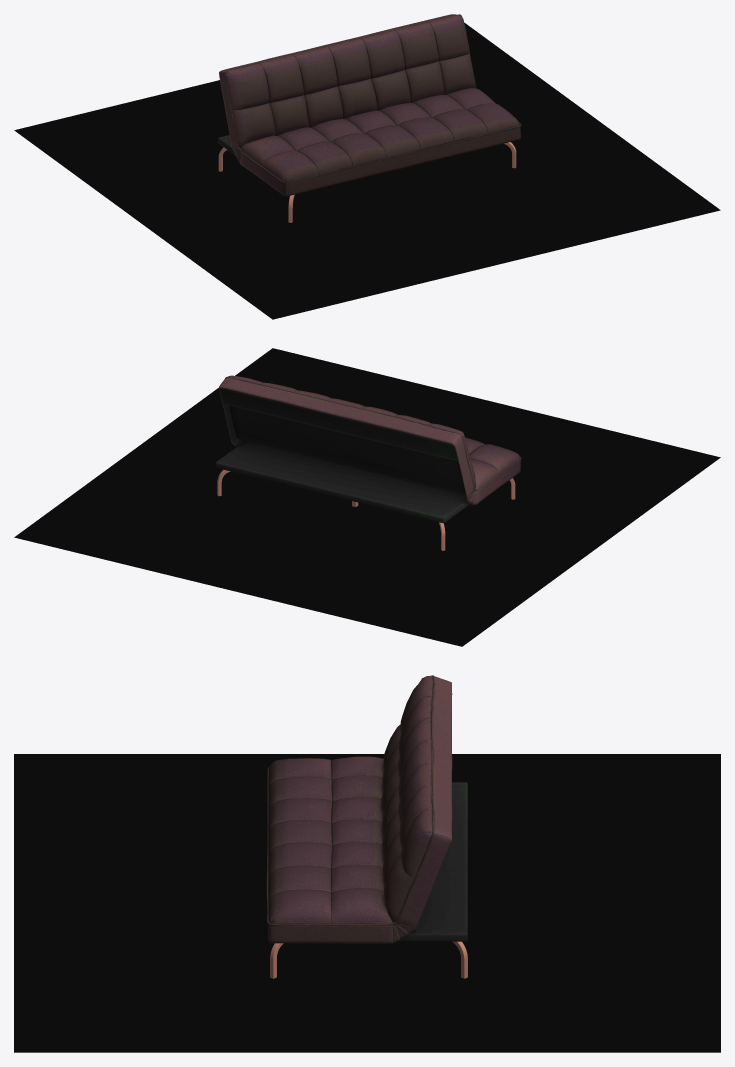
3 renders of one model, top to bottom at view 1: azimuth 30°, elevation 25°; view 2: azimuth 150°, elevation 25°; view 3: azimuth 270°, elevation 25°, orthographic. The views are drawn at different scales.
Visible parts, largest first — view 1: Plane001, FABRIC001; view 2: Plane001, FABRIC_BLACK001, FABRIC001; view 3: Plane001, FABRIC001, FABRIC_BLACK001.
Boxes of the visible parts, x1=… form: Plane001: x1=14, y1=23, x2=720, y2=319; FABRIC001: x1=219, y1=14, x2=521, y2=196; Plane001: x1=14, y1=348, x2=720, y2=646; FABRIC_BLACK001: x1=215, y1=388, x2=474, y2=523; FABRIC001: x1=219, y1=375, x2=521, y2=504; Plane001: x1=14, y1=754, x2=720, y2=1052; FABRIC001: x1=266, y1=675, x2=452, y2=943; FABRIC_BLACK001: x1=395, y1=782, x2=467, y2=942.
Size of the model in its own units: 334 by 79.05 by 334.
Materials: 5 (4 with a texture image).
